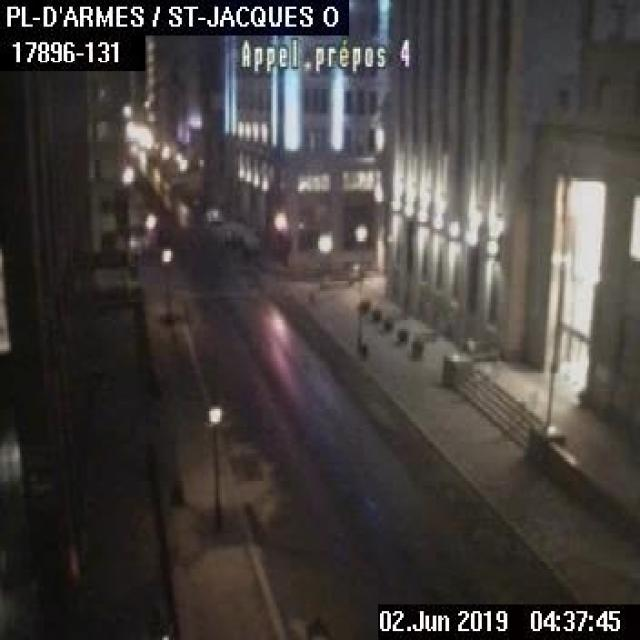vehicle: (203, 207, 220, 224)
